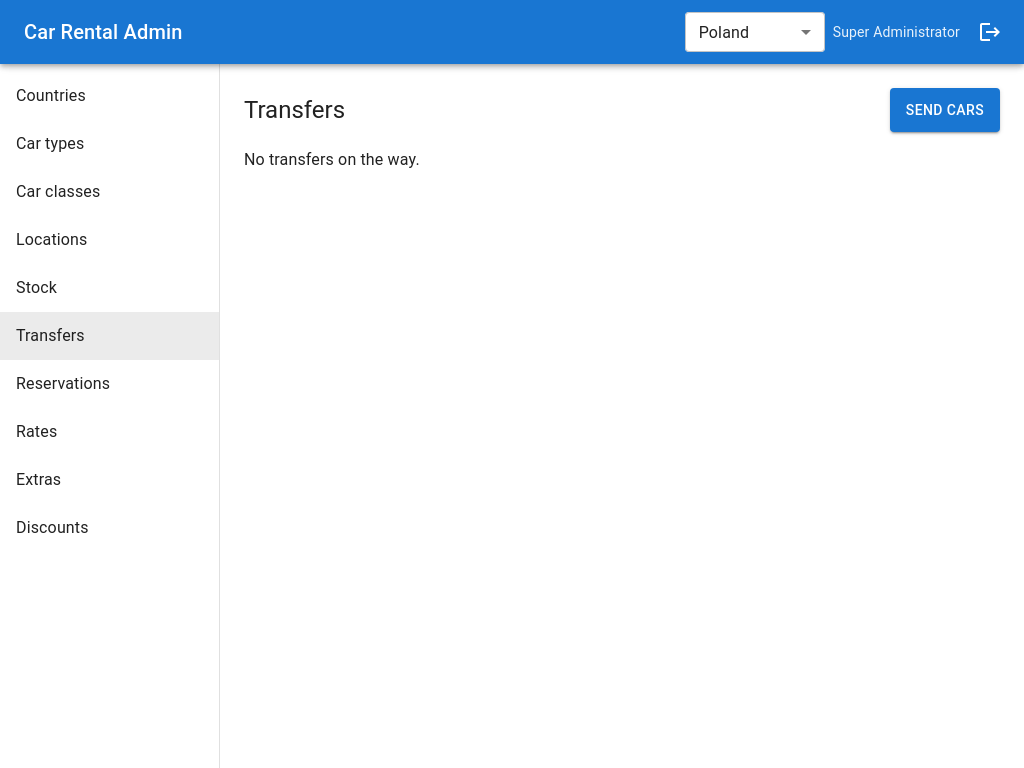
Scenario: Accessibility › names every field of the transfer form and the country selector
expect the dropdown named "Country" is shown: met, box [699,22,749,42]
Click the button "Send cars" at (945, 110), box [890,88,1000,132]
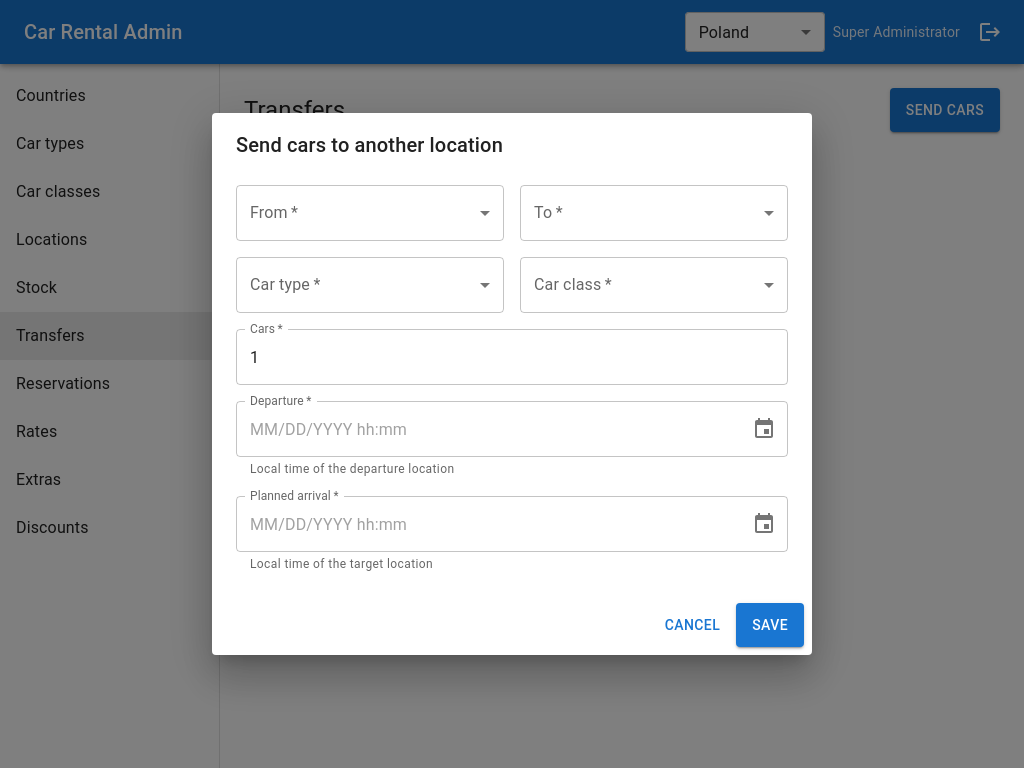
expect the dropdown named "From" next to "From" is shown: met, box [236,185,504,241]
expect the 2nd dropdown named "To" is shown: met, box [520,185,788,241]
expect the 3rd dropdown named "Car type" is shown: met, box [236,257,504,313]
